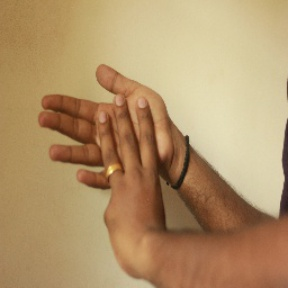M: (37, 60, 177, 219)
